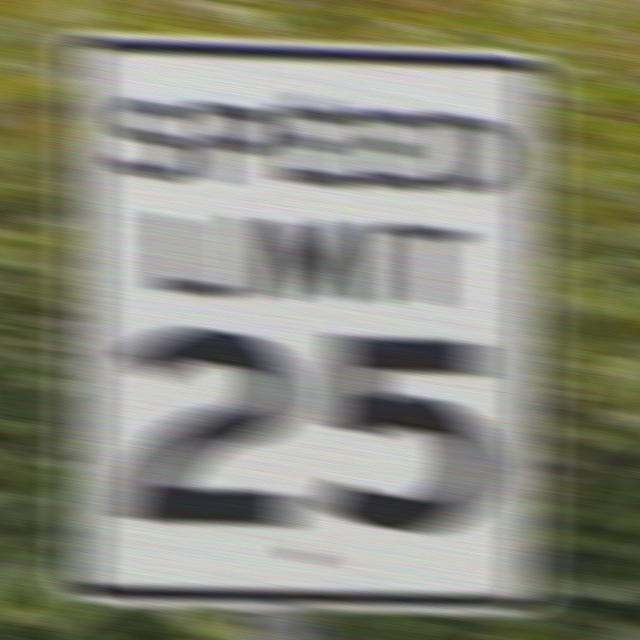speedLimit25: (64, 32, 552, 613)
